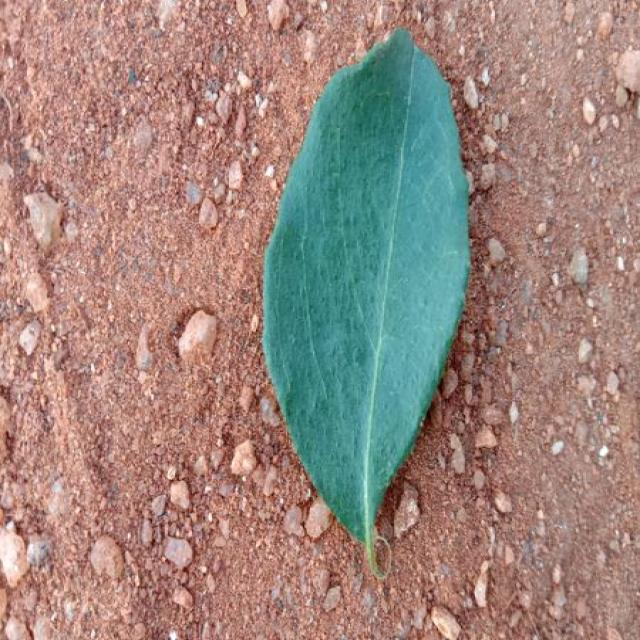curry: (263, 29, 470, 577)
